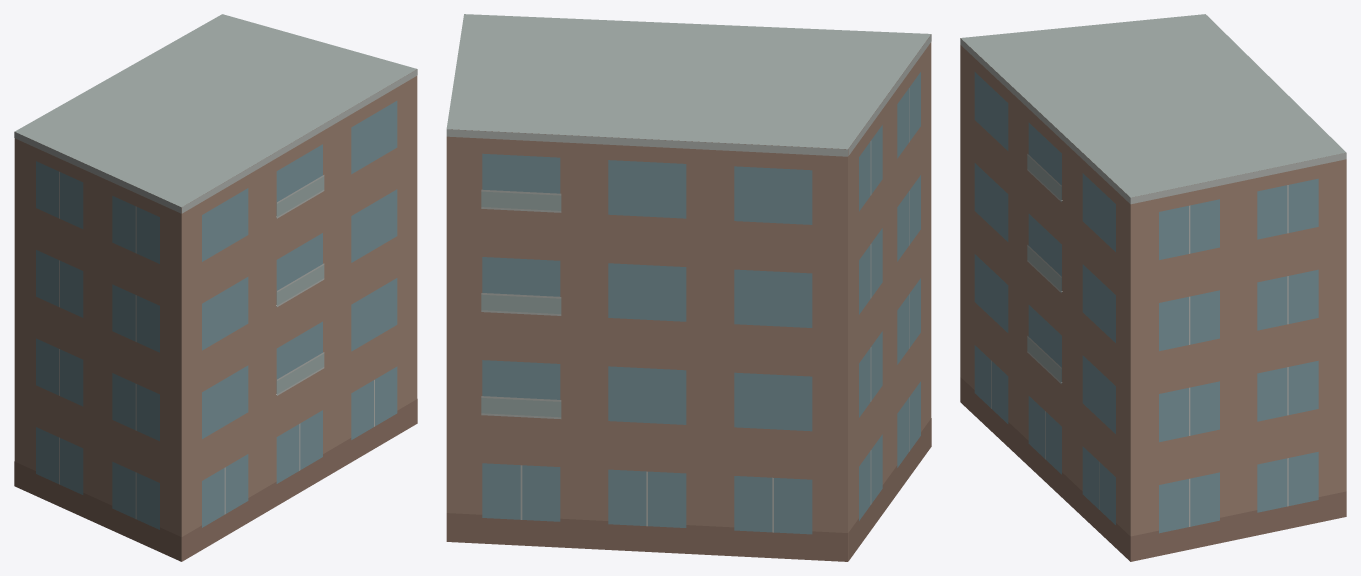
File: survey-upis-32792429.glb
3 views of the same model, side by side, from view 1: azimuth 30°, elevation 25°; view 2: azimuth 150°, elevation 25°; view 3: azimuth 270°, elevation 25° (orthographic). The views are drawn at different scales.
Parts seen in each view (by area): view 1: survey-upis-32792429.tmp; view 2: survey-upis-32792429.tmp; view 3: survey-upis-32792429.tmp.
Part boxes in pixels (x1,y1,x2,y2): survey-upis-32792429.tmp: (14, 14, 417, 561); survey-upis-32792429.tmp: (446, 14, 931, 561); survey-upis-32792429.tmp: (960, 14, 1346, 561).
Bounding box in the file's own units: 14.45 × 13.35 × 12.84.
